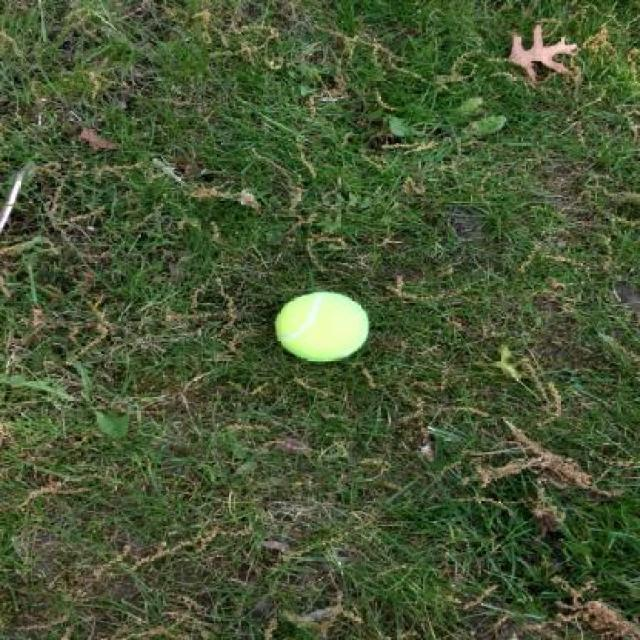Tennis_Ball: (274, 289, 369, 365)
